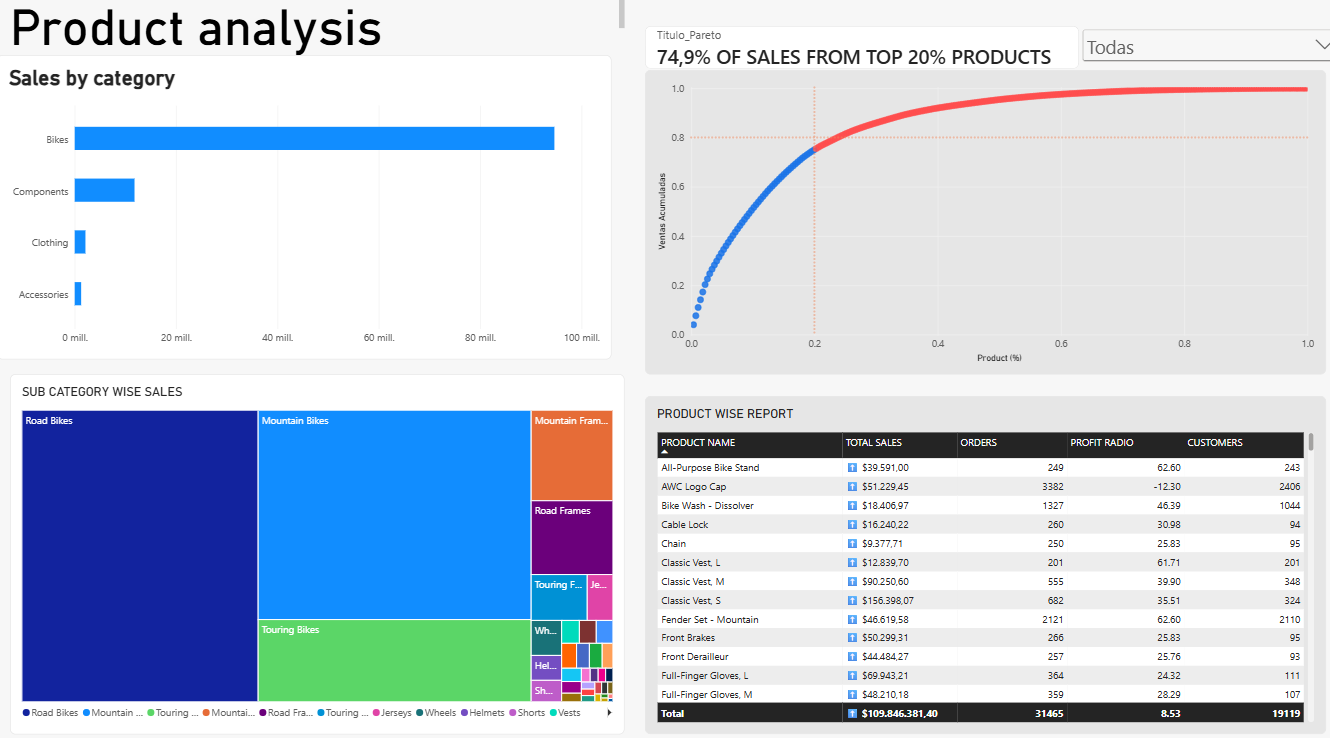

This screenshot's page, from the dashboard's own definition file:
{"tool":"powerbi","page":{"name":"Análisis de Productos","canvas":[1920,1080],"ordinal":2},"visuals":[{"type":"scatterChart","fields":{"Category":["DimProducto.NombreProducto"],"X":["FactVentas.Porcentaje_Producto"],"Y":["FactVentas.Ventas_Acumuladas"]},"box":[925,105,973.3,435],"z":0},{"type":"cardVisual","fields":{"Data":["FactVentas.Titulo_Pareto"]},"box":[925,43.3,620,61.7],"z":1000},{"type":"slicer","fields":{"Values":["DimFecha.Fecha.Variación.Jerarquía de fechas.Mes"]},"box":[1545,43.3,375,83.3],"z":2000},{"type":"tableEx","title":"PRODUCT WISE REPORT","fields":{"Values":["DimProducto.NombreProducto","FactVentas.Ventas_Con_Flecha","FactVentas.Total_Orders","DimProducto.Profit_Ratio","FactVentas.Total_Customers"]},"box":[925,571.7,973.3,483.3],"z":3000},{"type":"treemap","title":"SUB CATEGORY WISE SALES","fields":{"Group":["DimProducto.NombreSubCategoria"],"Values":["FactVentas.Ventas_totales"]},"box":[18.3,540,878.3,515],"z":4000},{"type":"clusteredBarChart","title":"Sales by category","fields":{"Category":["DimProducto.NombreCategoria"],"Y":["FactVentas.Ventas_totales"]},"box":[0,85,878,435],"z":5000},{"type":"textbox","box":[18.3,3.3,878.3,81.7],"z":5001}]}

Visuals, with their boxes in screenshot pixels (x1, y1, x2, y2), scaled from the page's 1920x1080 canvas onto the 1330x738 screenshot:
scatterChart - DimProducto.NombreProducto x FactVentas.Porcentaje_Producto: 641 72 1315 369
cardVisual - FactVentas.Titulo_Pareto: 641 30 1070 72
slicer - DimFecha.Fecha.Variación.Jerarquía de fechas.Mes: 1070 30 1329 87
"PRODUCT WISE REPORT" tableEx: 641 391 1315 721
"SUB CATEGORY WISE SALES" treemap: 13 369 621 721
"Sales by category" clusteredBarChart: 0 58 608 355
textbox: 13 2 621 58
